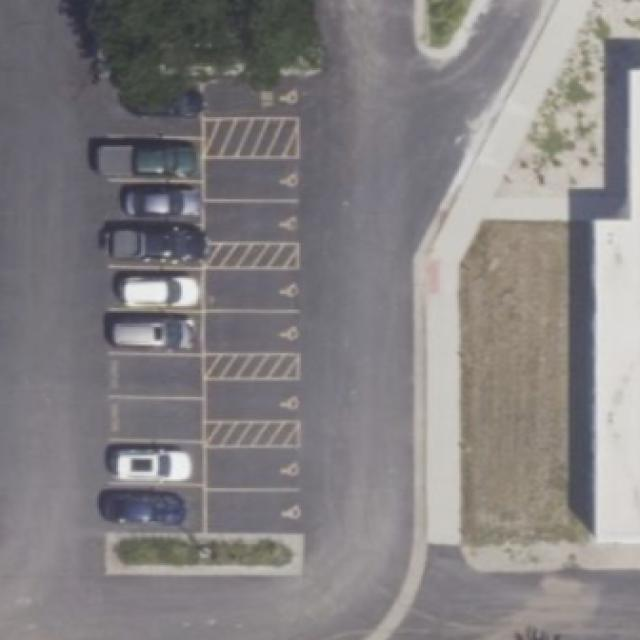Empty: (200, 72, 302, 120), (200, 490, 304, 534), (107, 396, 205, 440), (204, 266, 300, 310), (106, 354, 202, 398), (203, 446, 301, 489), (205, 157, 299, 201), (205, 380, 302, 422), (204, 200, 300, 242), (204, 312, 300, 352)
Parked: (104, 484, 208, 532), (95, 180, 205, 224), (96, 136, 204, 180), (98, 224, 204, 268), (101, 268, 203, 312), (104, 310, 204, 354), (103, 441, 205, 484), (117, 77, 201, 116)
